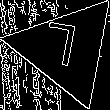L_S: (46, 22, 87, 77)
